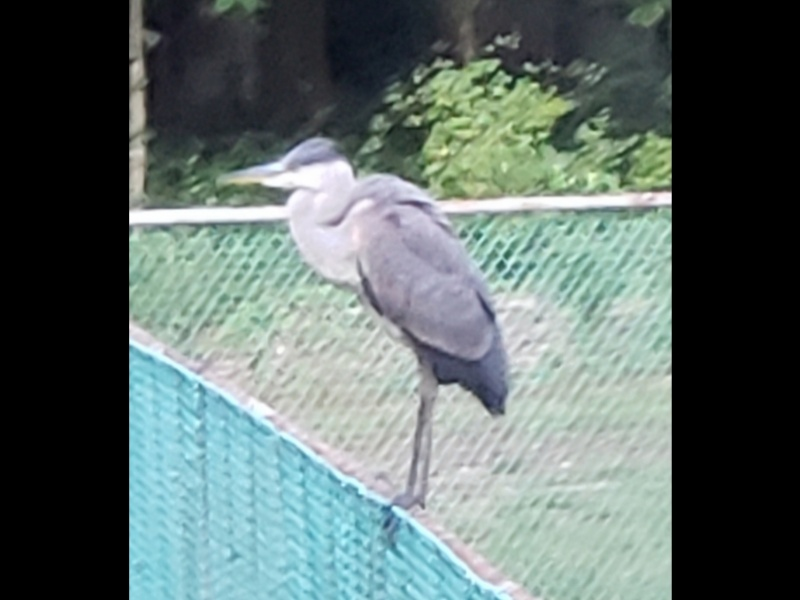heron: (212, 134, 519, 532)
